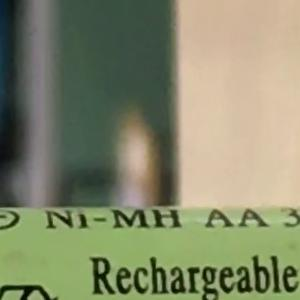NI-MH: (36, 199, 191, 239)
